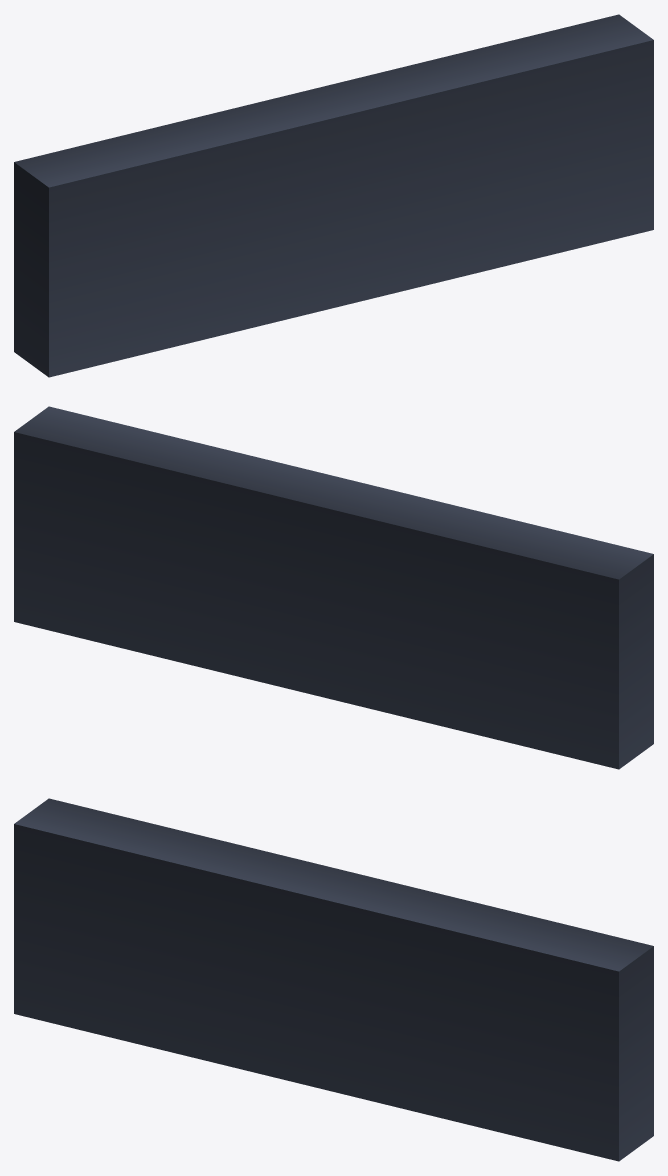
Rendered from KIT_Wall_Half_4.glb.
3 views of the same model, one above another, from view 1: azimuth 30°, elevation 25°; view 2: azimuth 150°, elevation 25°; view 3: azimuth 330°, elevation 25° (orthographic).
Parts seen in each view (by area): view 1: KIT_Wall_Half_4; view 2: KIT_Wall_Half_4; view 3: KIT_Wall_Half_4.
Boxes of the visible parts, x1=… form: KIT_Wall_Half_4: x1=14, y1=14, x2=653, y2=377; KIT_Wall_Half_4: x1=14, y1=406, x2=653, y2=769; KIT_Wall_Half_4: x1=14, y1=798, x2=653, y2=1161.
Size of the model in its own units: 4 by 1.2 by 0.4.
1 material, 1 textured.
